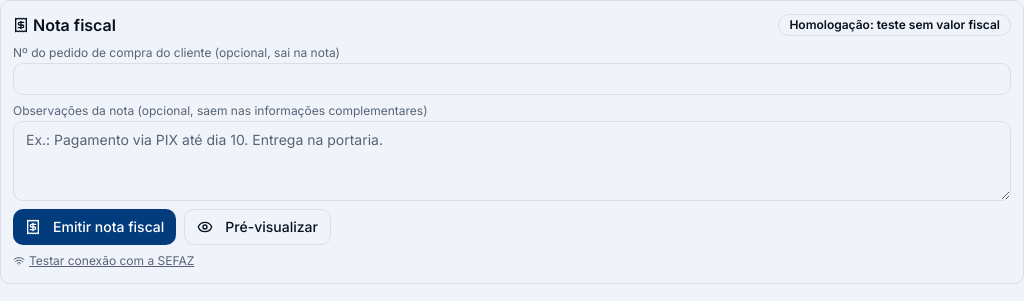
Test: Painel da nota fiscal › emite e devolve a nota autorizada para o pedido
Click the button "Emitir nota fiscal".
click(95, 227)  # box [13,209,176,245]
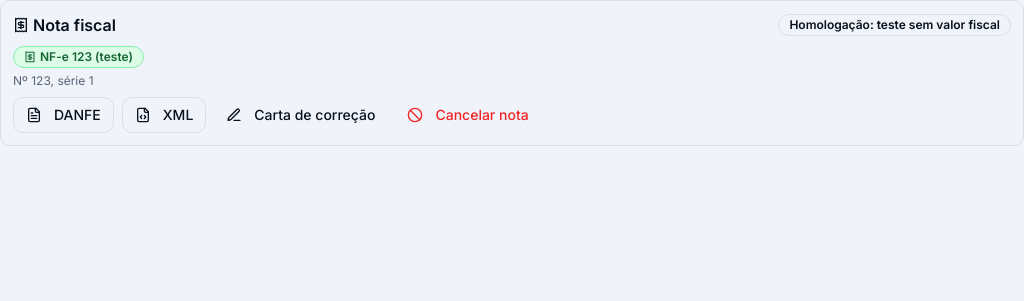
Result: the button "DANFE" is shown at [13,97,114,133]
Result: the text "Nº 123, série 1" is shown at [13,73,94,88]
